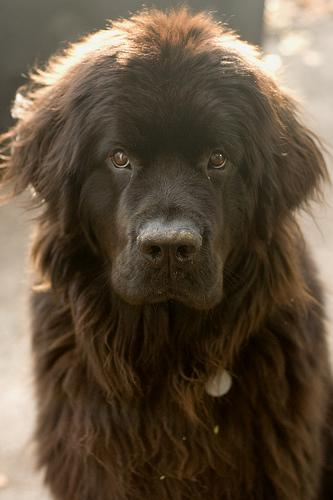dog-newfoundland: (12, 16, 316, 308)
